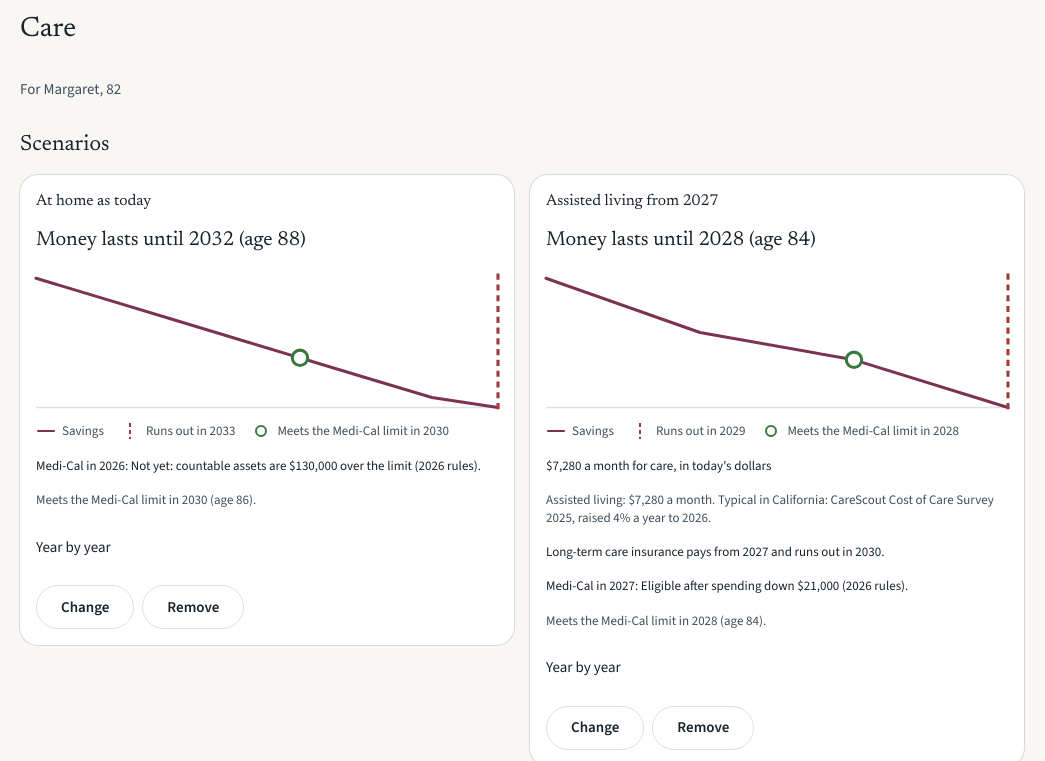
Test: Changing Care › asks before removing a scenario
The width and height of the screenshot is (1045, 761).
Click the button with aria-label "Remove Assisted living from 2027".
click(703, 728)  # box [652,706,754,750]
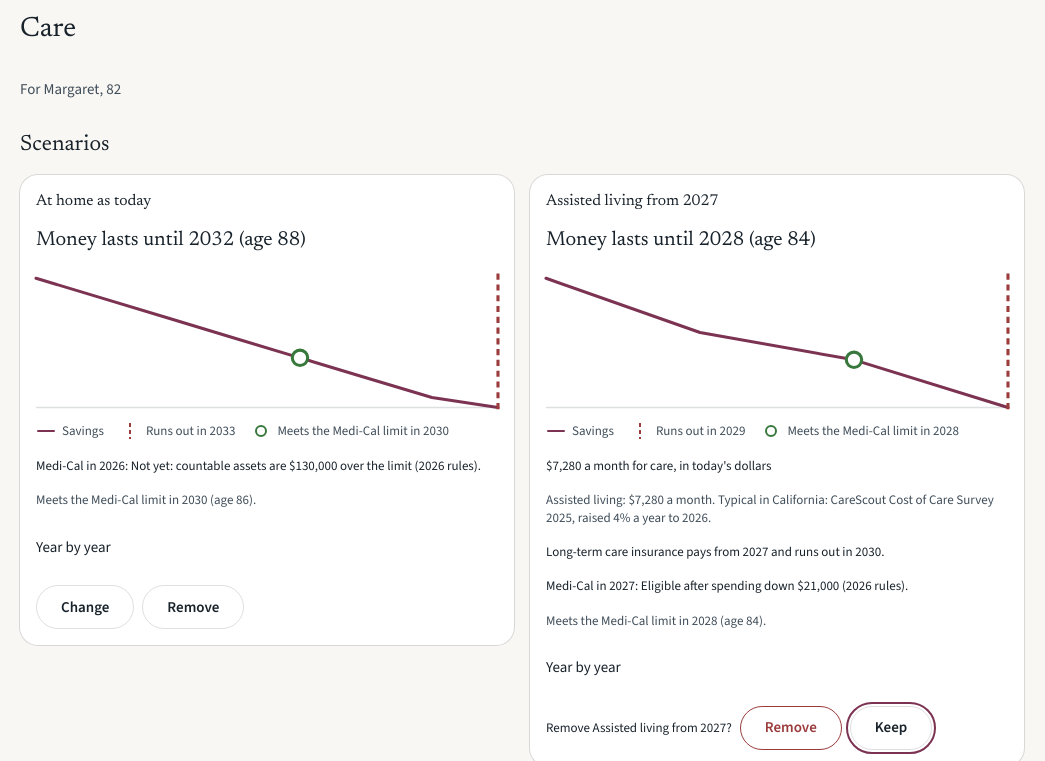
expect the text "Remove Assisted living from 2027?" is shown: met, box [546,719,732,737]
Click the button with aria-label "Remove Assisted living from 2027".
click(791, 728)  # box [740,706,842,750]
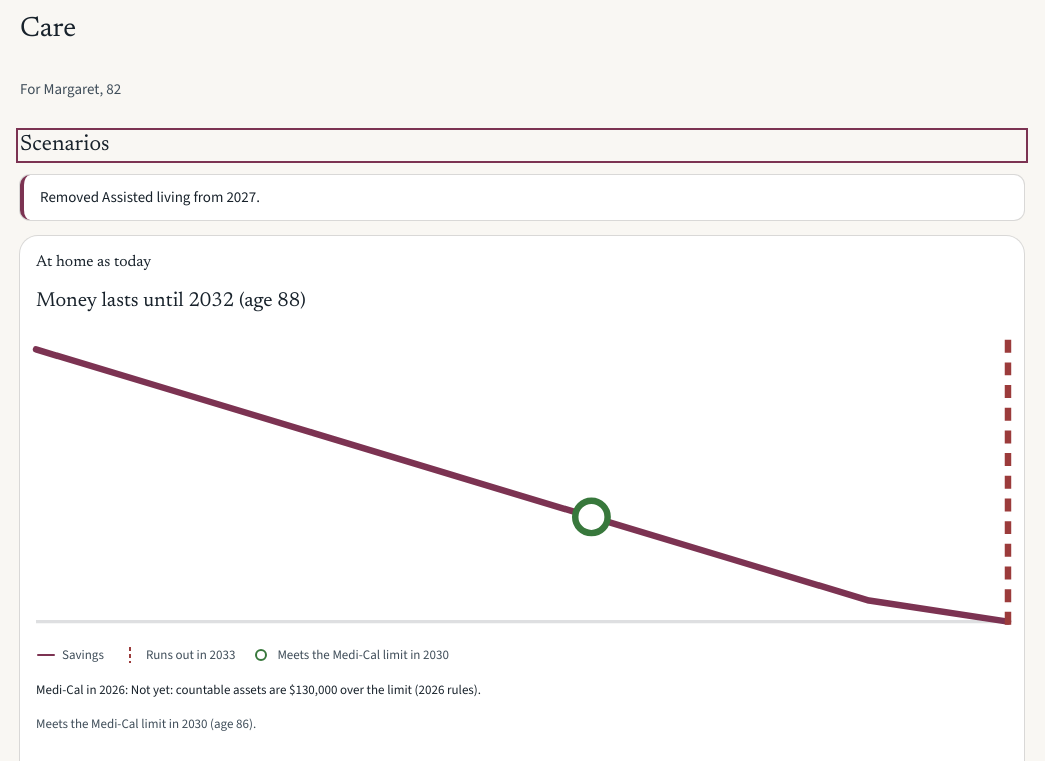
expect the text "Money lasts until 2028 (age 84)" is gone: met
expect the text "Removed Assisted living from 2027." is shown: met, box [20,175,1024,220]
